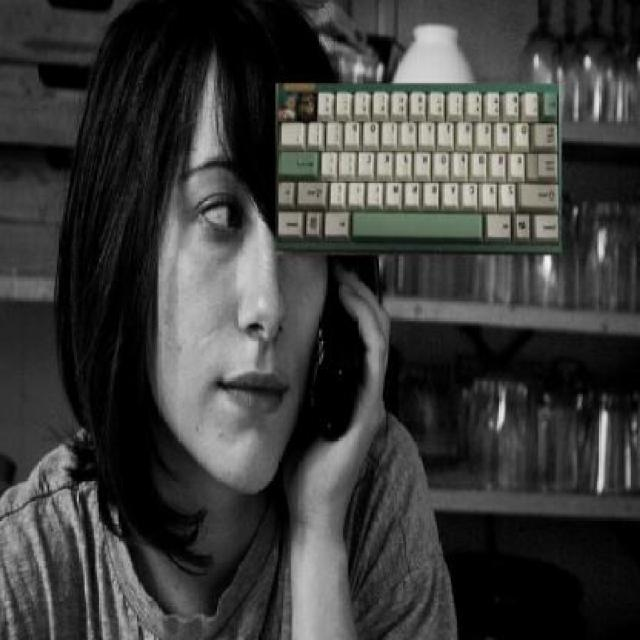keyboard: (271, 80, 563, 243)
